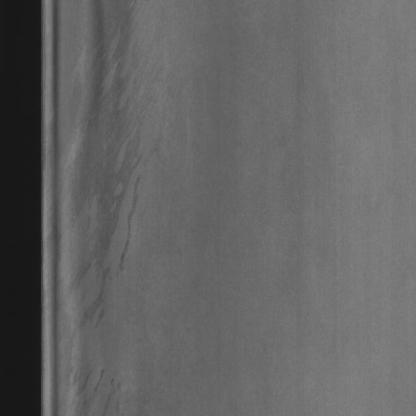water_spot: (60, 7, 155, 412)
